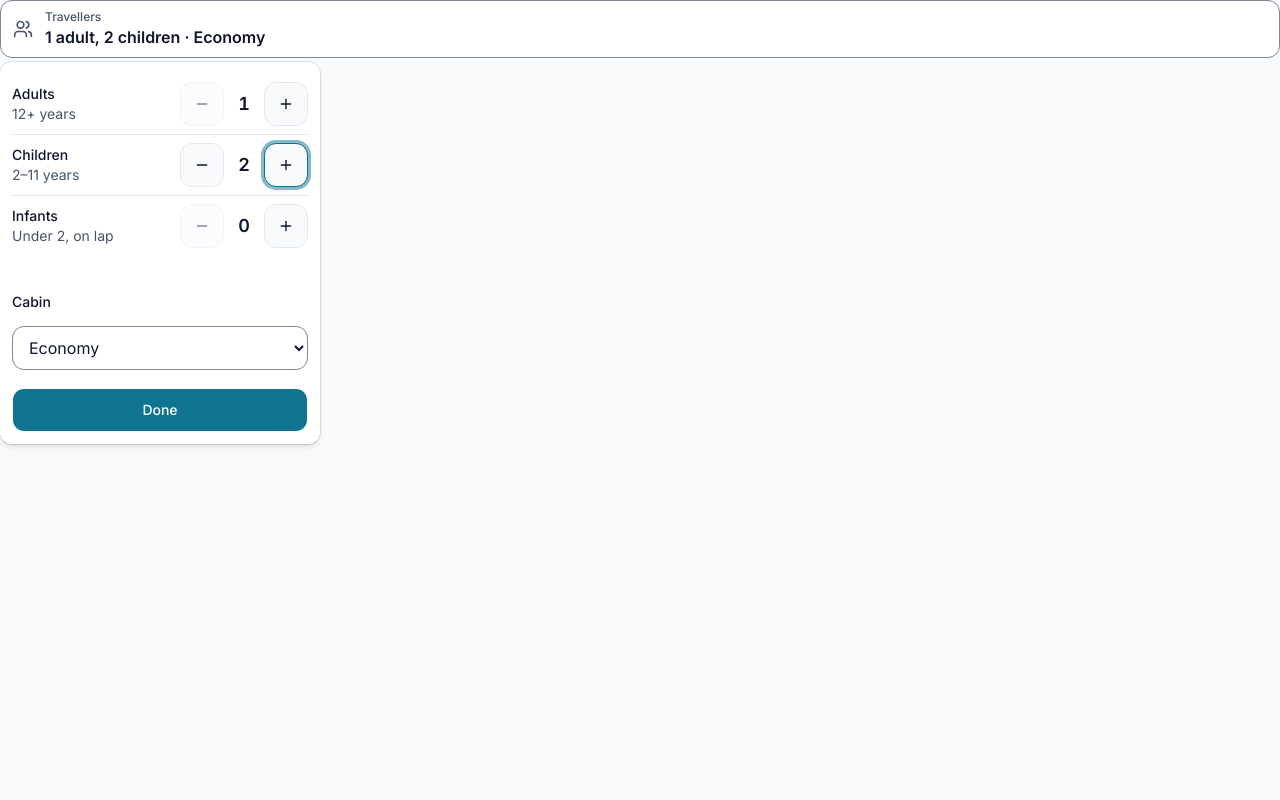
Test case: PassengerPicker › caps seated passengers at 9 and shows the hint
Earlier steps of the test are not shown.
Click the button named "Add one: Children".
click(286, 165)  # box x1=264 y1=143 x2=308 y2=187
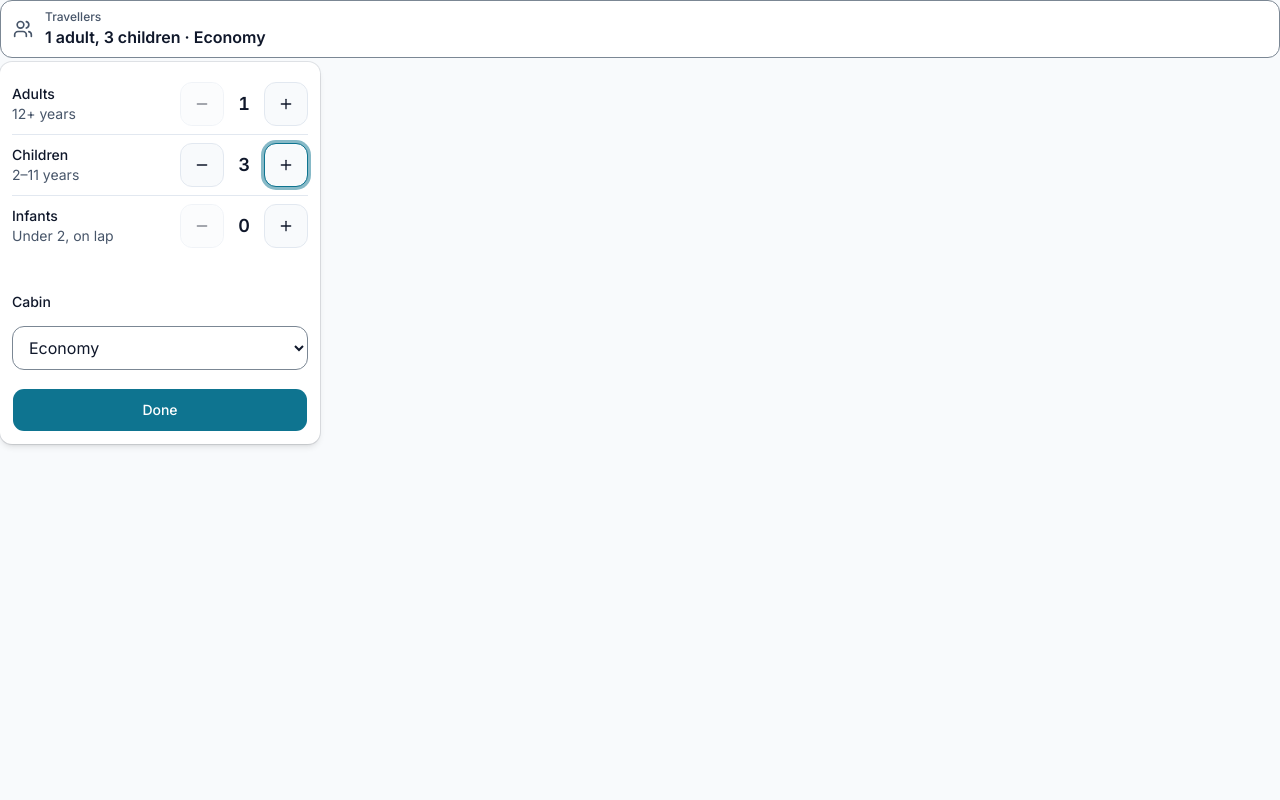
Click the button named "Add one: Children".
click(286, 165)  # box x1=264 y1=143 x2=308 y2=187
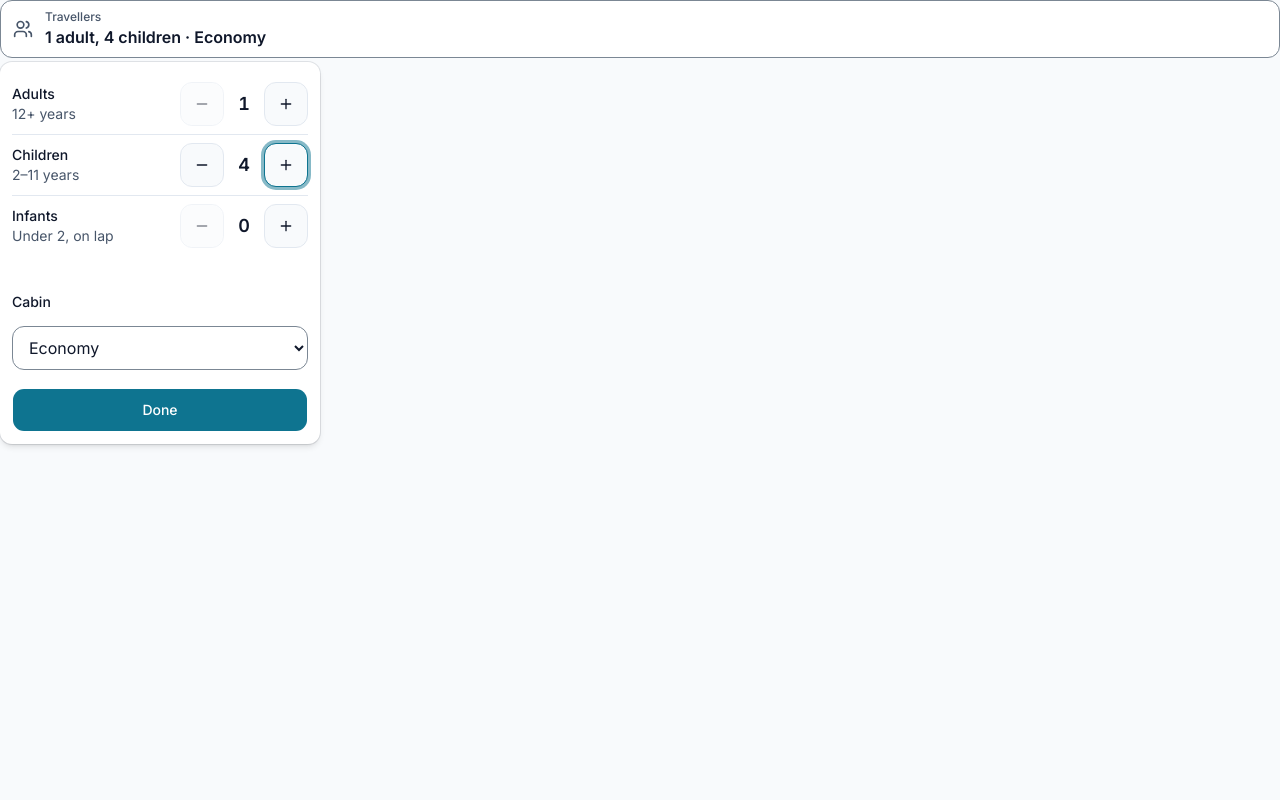
Click the button named "Add one: Children".
click(286, 165)  # box x1=264 y1=143 x2=308 y2=187
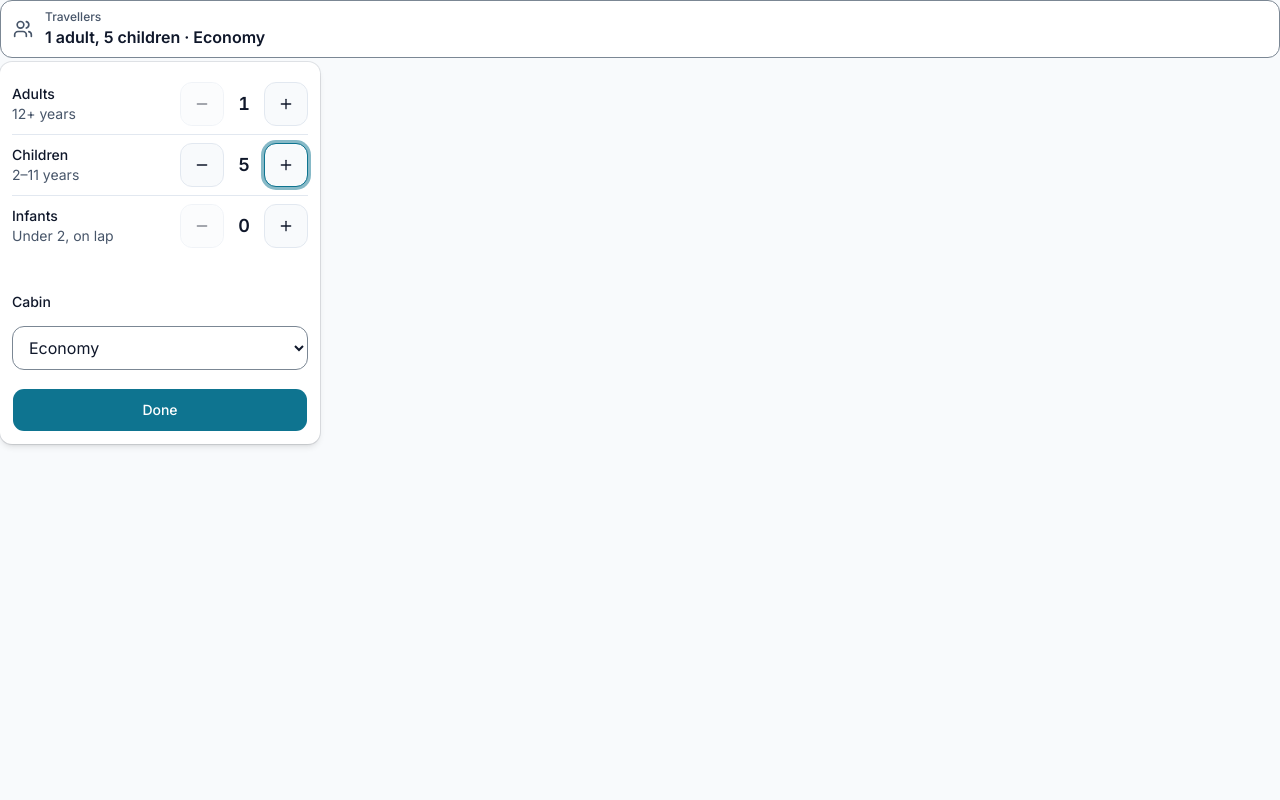
Click the button named "Add one: Children".
click(286, 165)  # box x1=264 y1=143 x2=308 y2=187
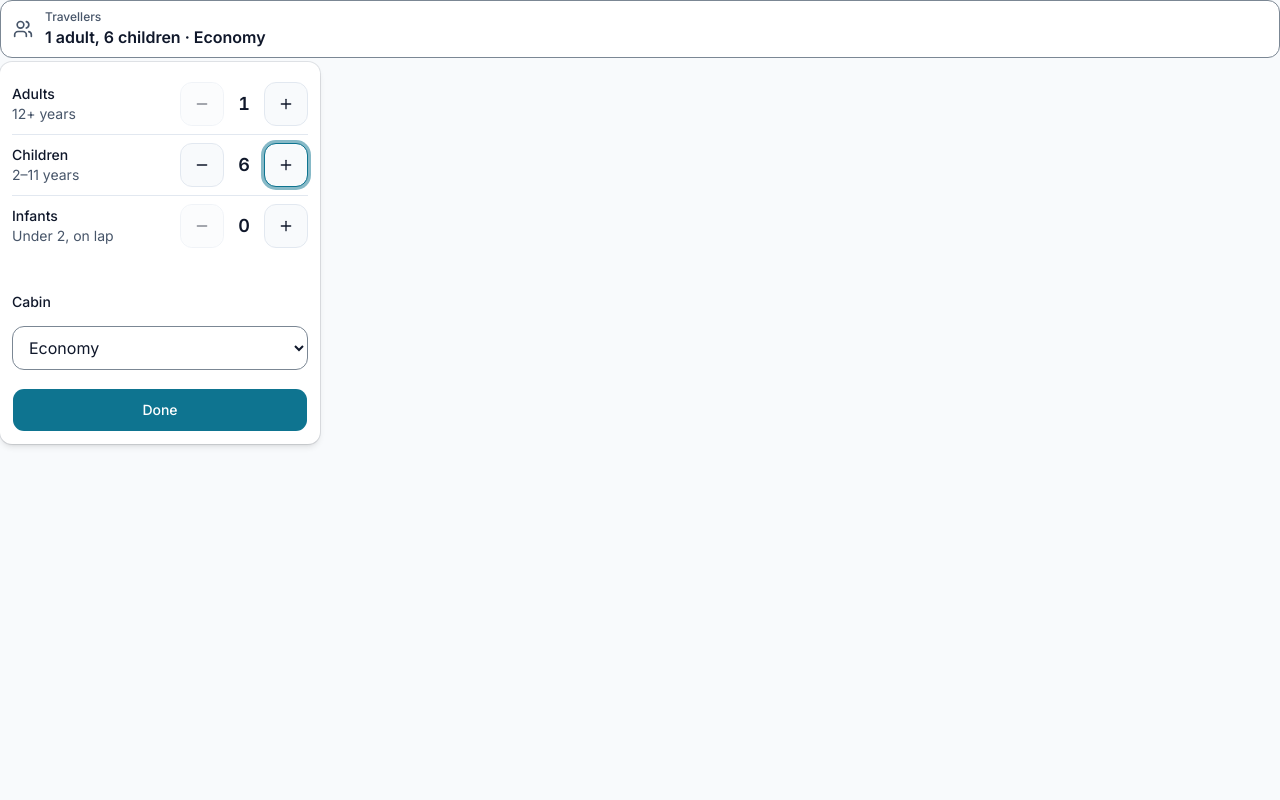
Click the button named "Add one: Children".
click(286, 165)  # box x1=264 y1=143 x2=308 y2=187
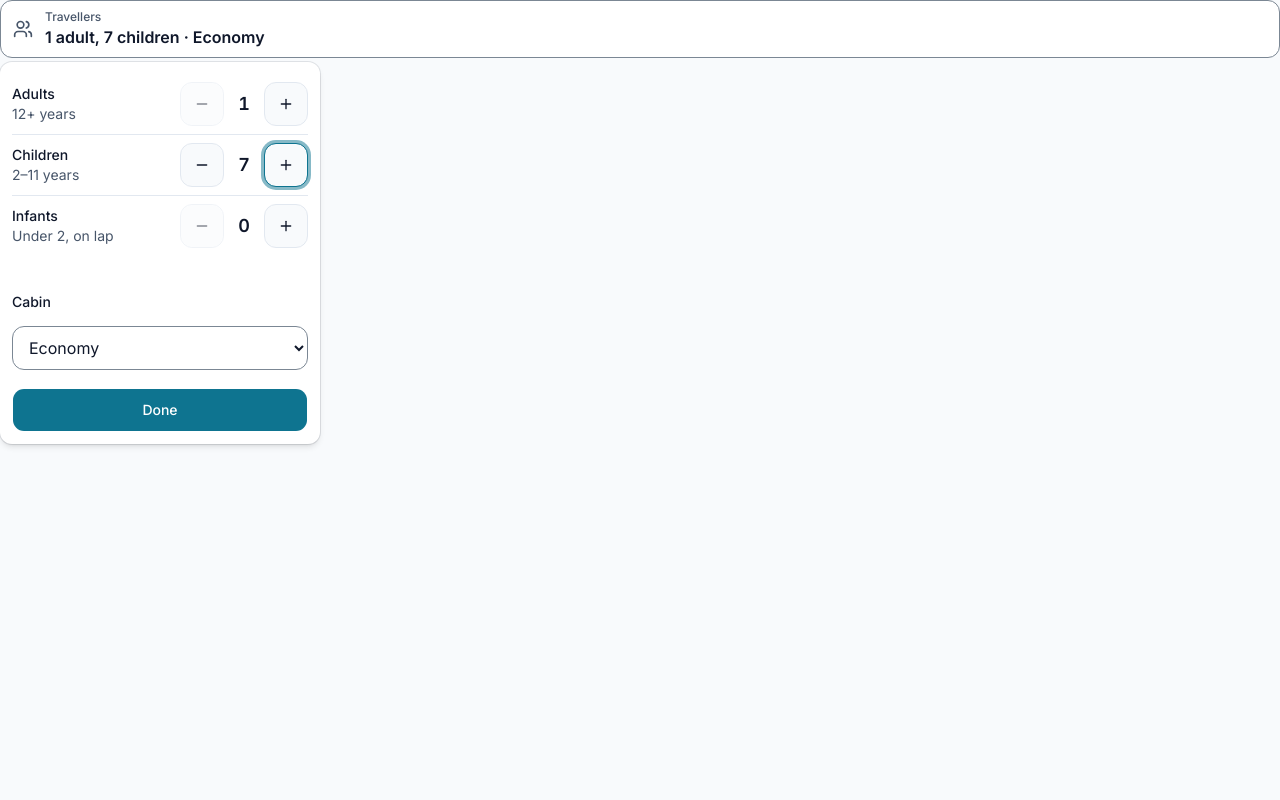
Click the button named "Add one: Children".
click(286, 165)  # box x1=264 y1=143 x2=308 y2=187
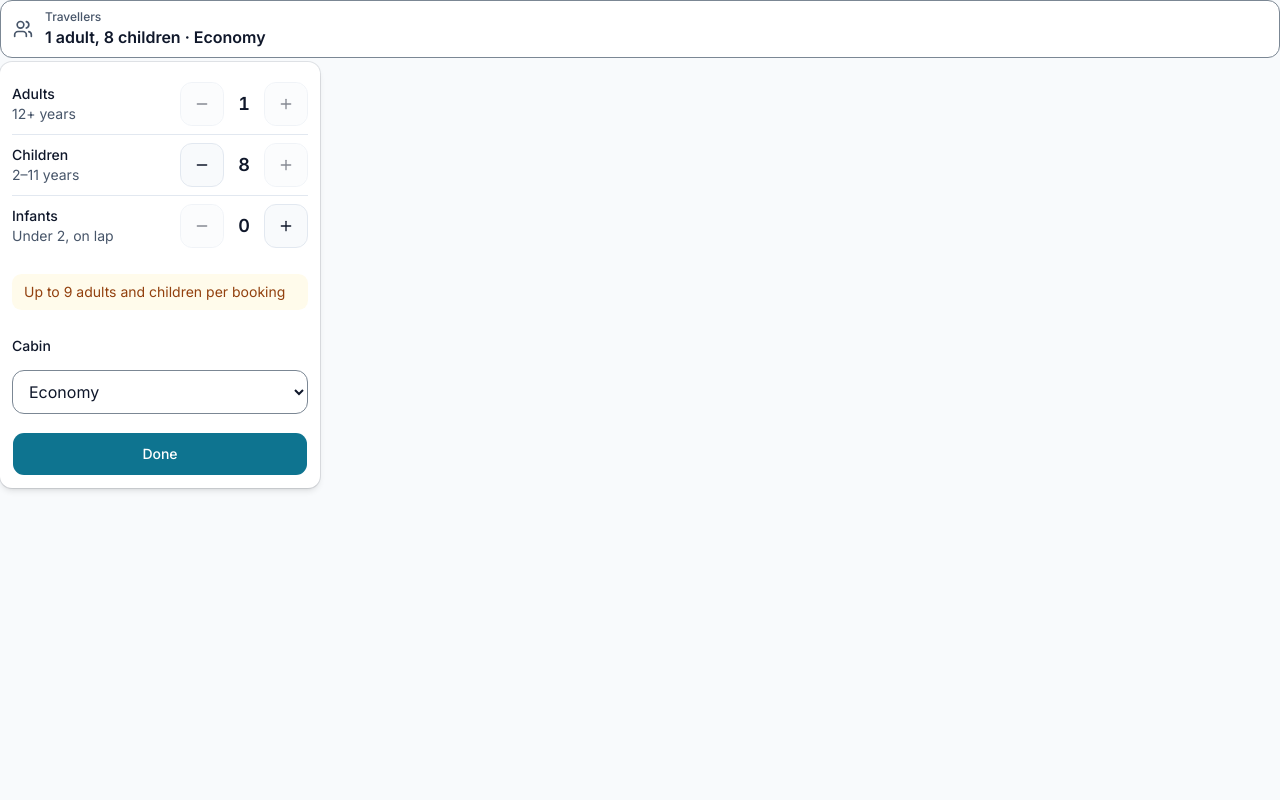
Expected: the button named "Add one: Children" is disabled, x1=264 y1=143 x2=308 y2=187
Expected: the button named "Add one: Adults" is disabled, x1=264 y1=82 x2=308 y2=126
Expected: the text "Up to 9 adults and children per booking" is shown, x1=12 y1=274 x2=308 y2=310
